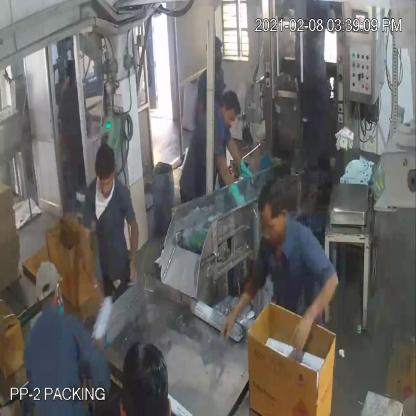glove: (214, 148, 247, 213), (225, 132, 256, 188)
no_glove: (288, 266, 342, 354), (223, 261, 266, 345), (76, 220, 102, 302), (126, 211, 142, 299)
